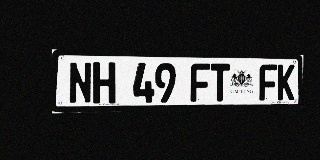4: (133, 63, 154, 103)
9: (155, 63, 176, 102)
F: (190, 63, 210, 102), (259, 64, 277, 101)
H: (93, 62, 116, 104)
K: (277, 64, 295, 100)
N: (68, 62, 92, 104)
T: (210, 64, 230, 101)
